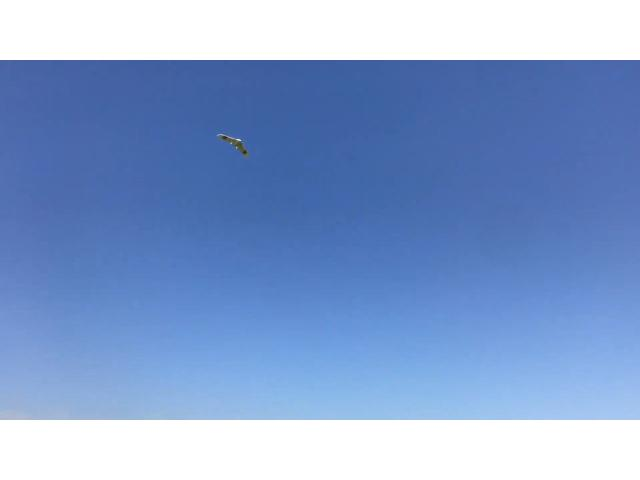Anti-Drone: (211, 124, 261, 169)
